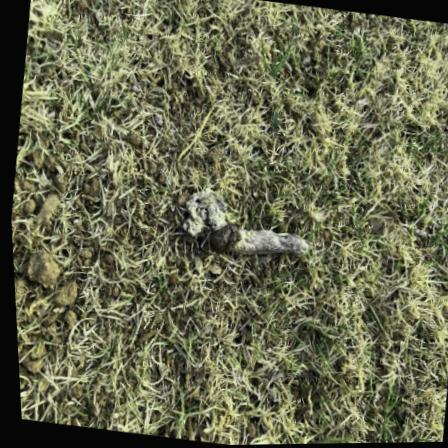dog-poop: (167, 178, 315, 280)
